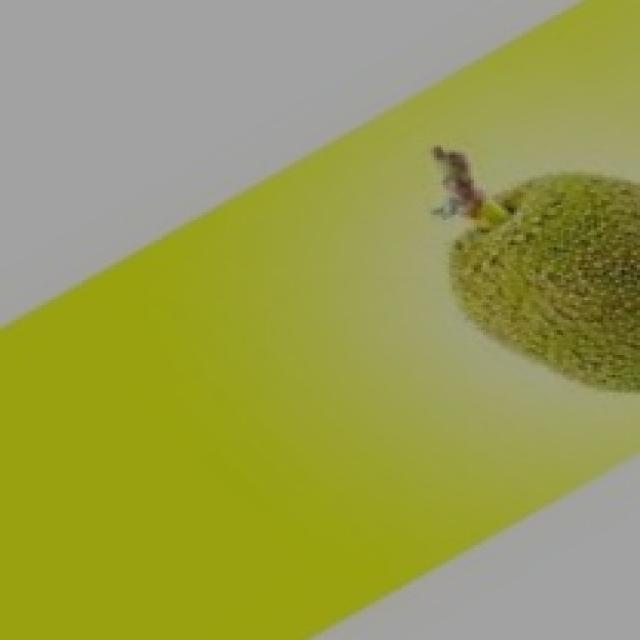Fruit: (412, 148, 640, 438)
